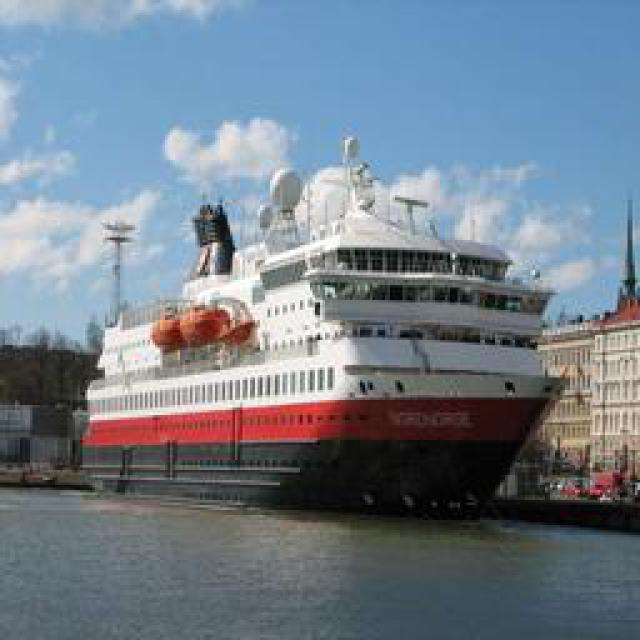Ship: (74, 116, 564, 514)
